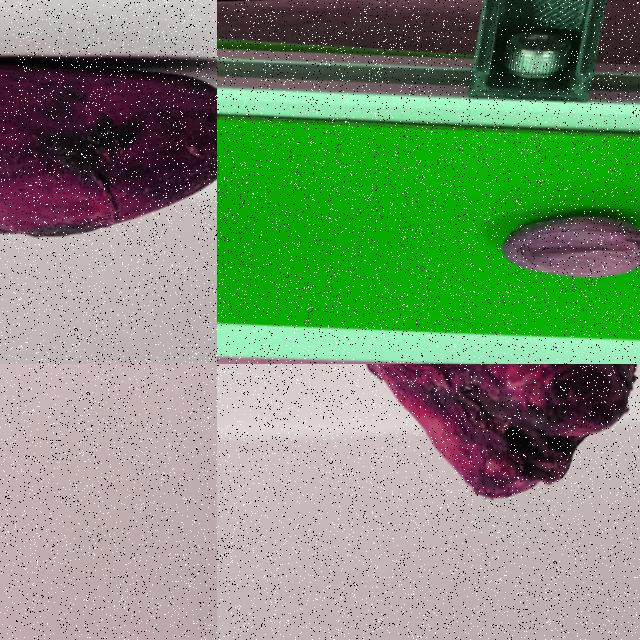Agglomerated_cocoabeans: (317, 364, 639, 539)
Fine_cocoabeans: (0, 18, 216, 266), (395, 164, 639, 323)
